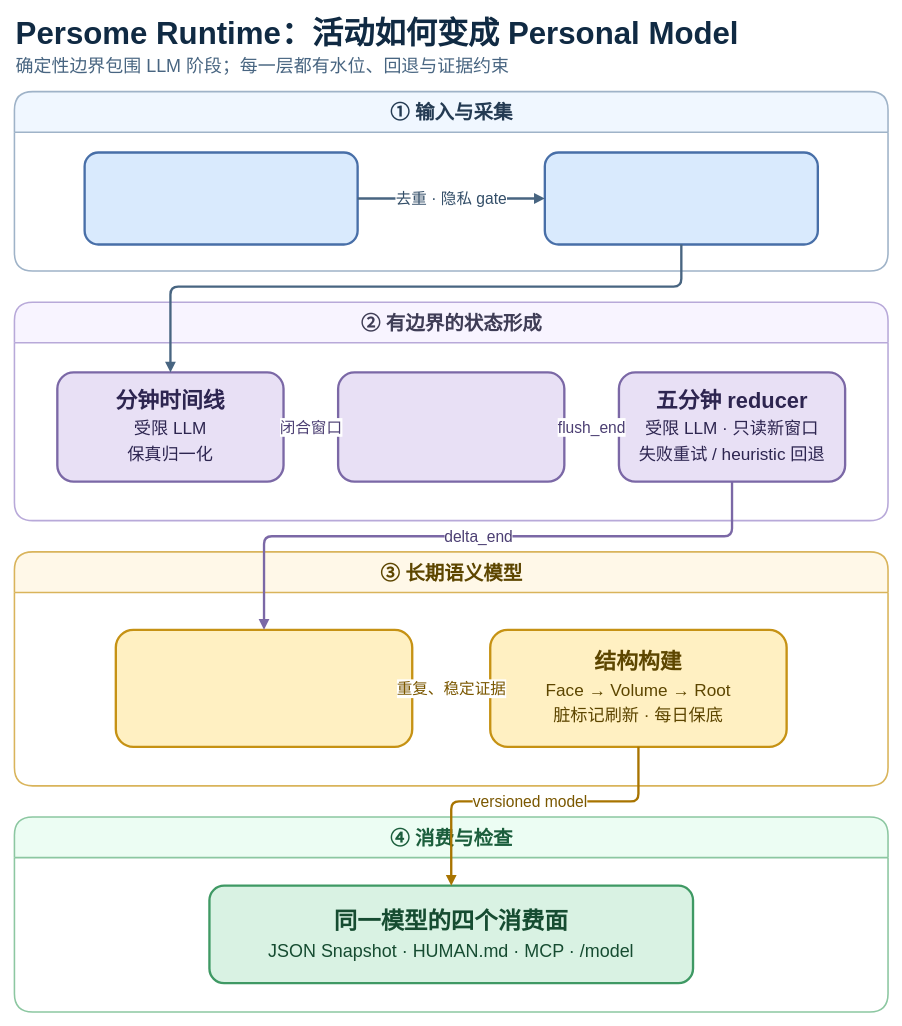
The diagram is 902 pixels wide and 1026 high, and some of its shapes have lost their labels. The shapes that lost their labels are listed below. From the top down, each one's centre as x and y in pixels, then its label:
At (x=220, y=198): "输入信号 AX 事件 · 可信导入 移动端观察".
At (x=681, y=198): "S1 采集记录 focused_element visible_text · URL".
At (x=451, y=426): "确定性会话 空闲 5 分钟 · 软切 3 分钟 最长 2 小时".
At (x=263, y=688): "memory_delta + gate 引用 · 身份 · 谓词 · 置信度 确定性 apply → Point / Line".
